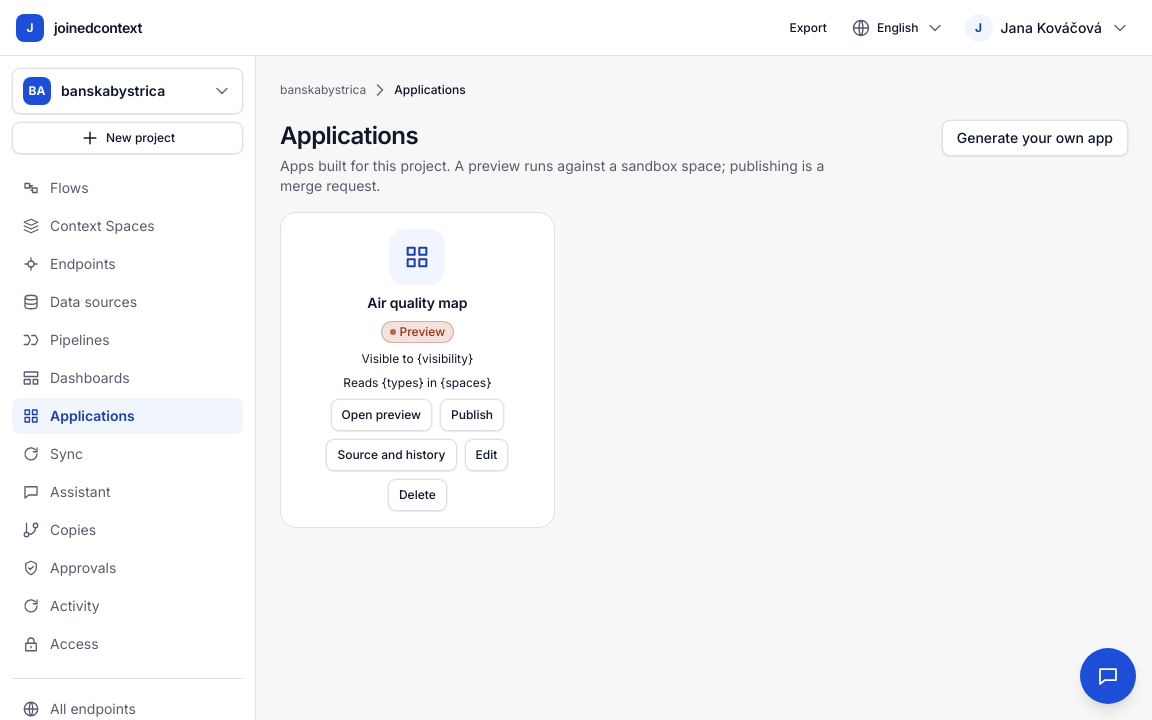
Test: apps catalog › shows the server's own reason when the publication is refused
The image size is (1152, 720).
Step 1. Click the button "Publish" → click(472, 415), box [440,399,504,431]
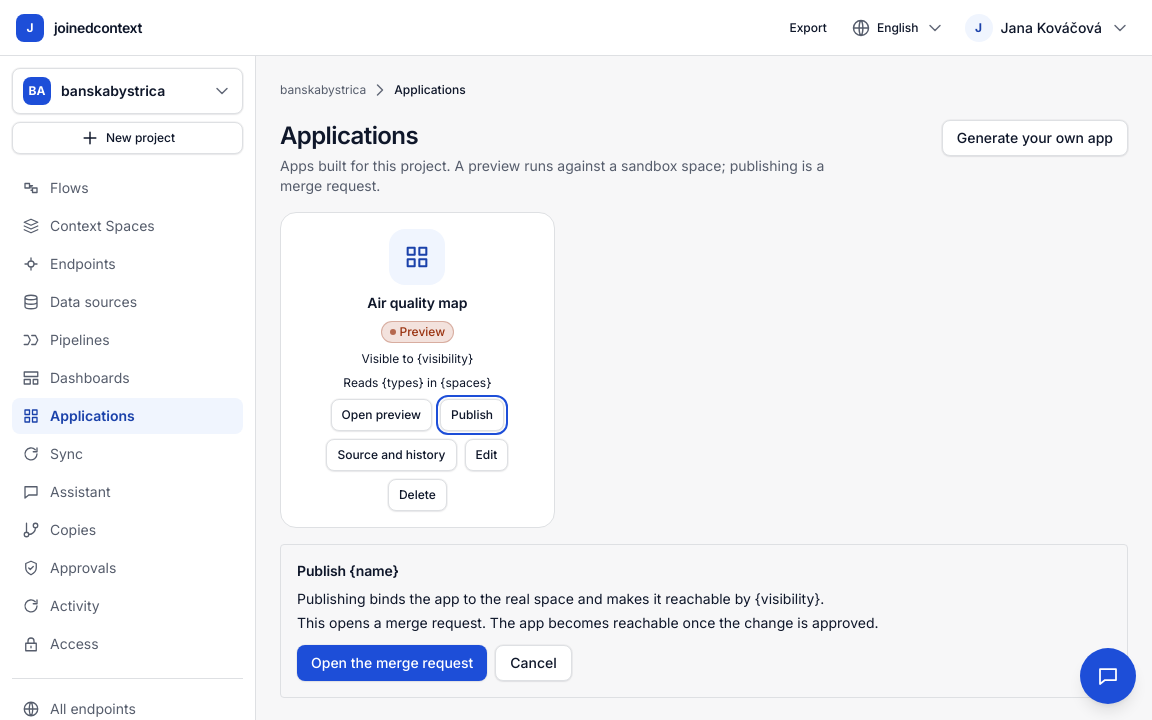
Step 2. Click the button "Open the merge request" → click(392, 663), box [297,645,487,681]
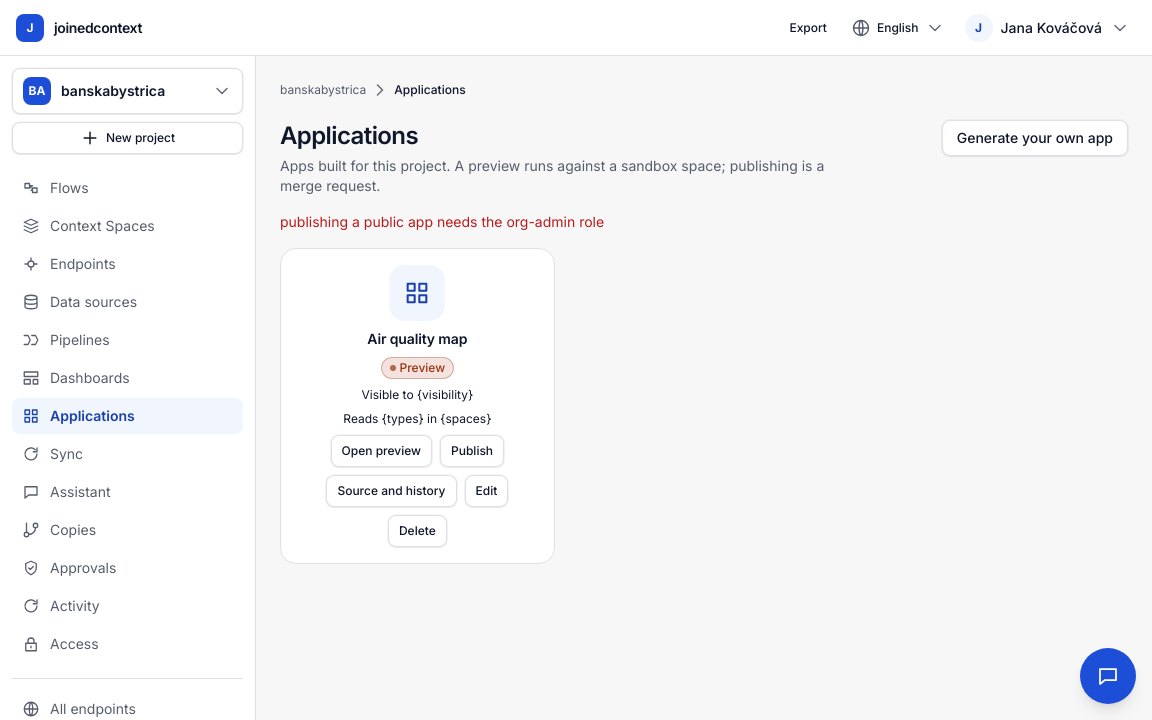
Expected: the message reads "publishing a public app needs the org-admin role", [280,213,604,230]
